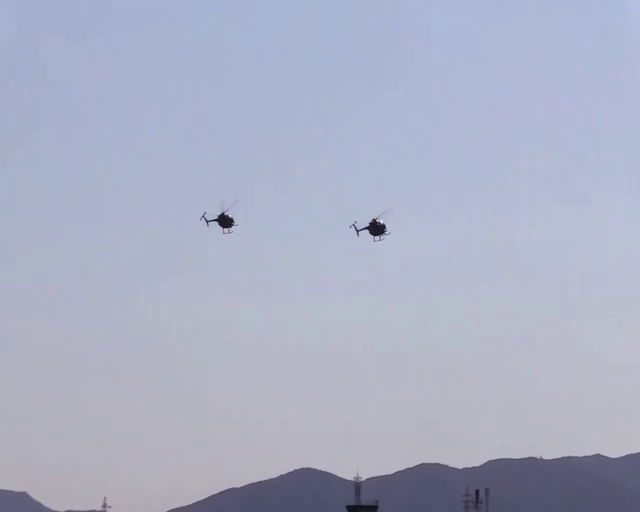HELICOPTER: (348, 207, 392, 242)
